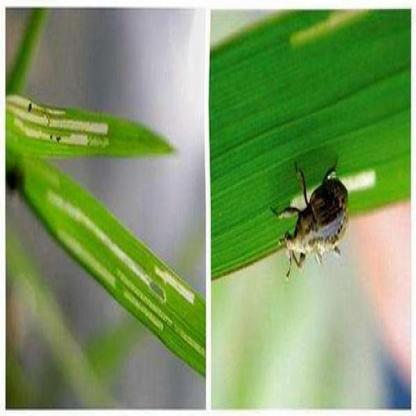rice-bug: (278, 168, 353, 264)
